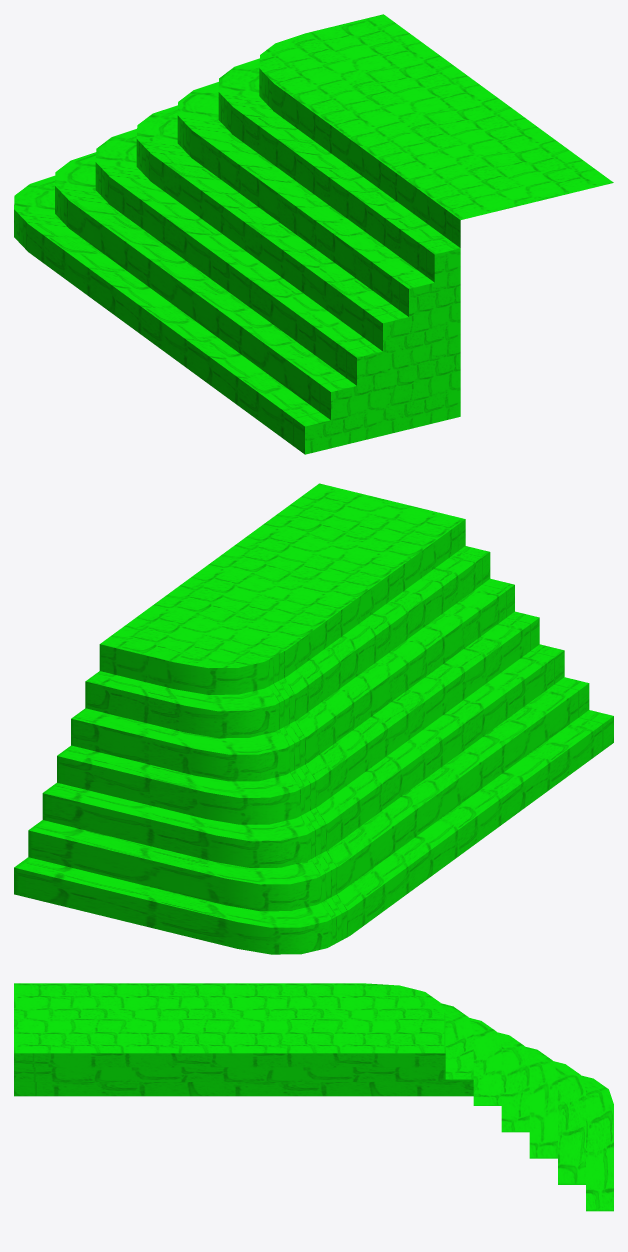
3 renders of one model, top to bottom at view 1: azimuth 30°, elevation 25°; view 2: azimuth 150°, elevation 25°; view 3: azimuth 270°, elevation 25°, orthographic. The views are drawn at different scales.
Parts seen in each view (by area): view 1: 입구; view 2: 입구; view 3: 입구.
Part boxes in pixels (x1=…): 입구: x1=14, y1=14, x2=613, y2=454; 입구: x1=14, y1=483, x2=613, y2=954; 입구: x1=14, y1=983, x2=613, y2=1211.
Size of the model in its own units: 179 by 109 by 321.
